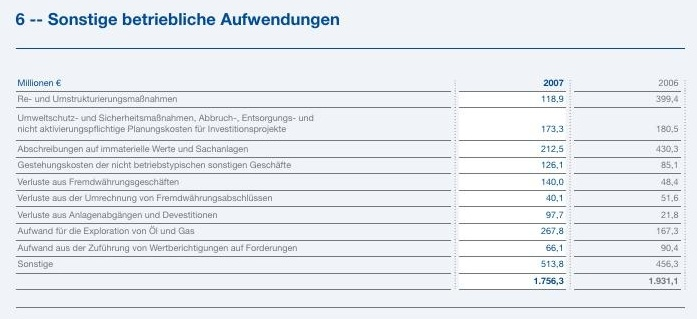table: (0, 0, 697, 319)
